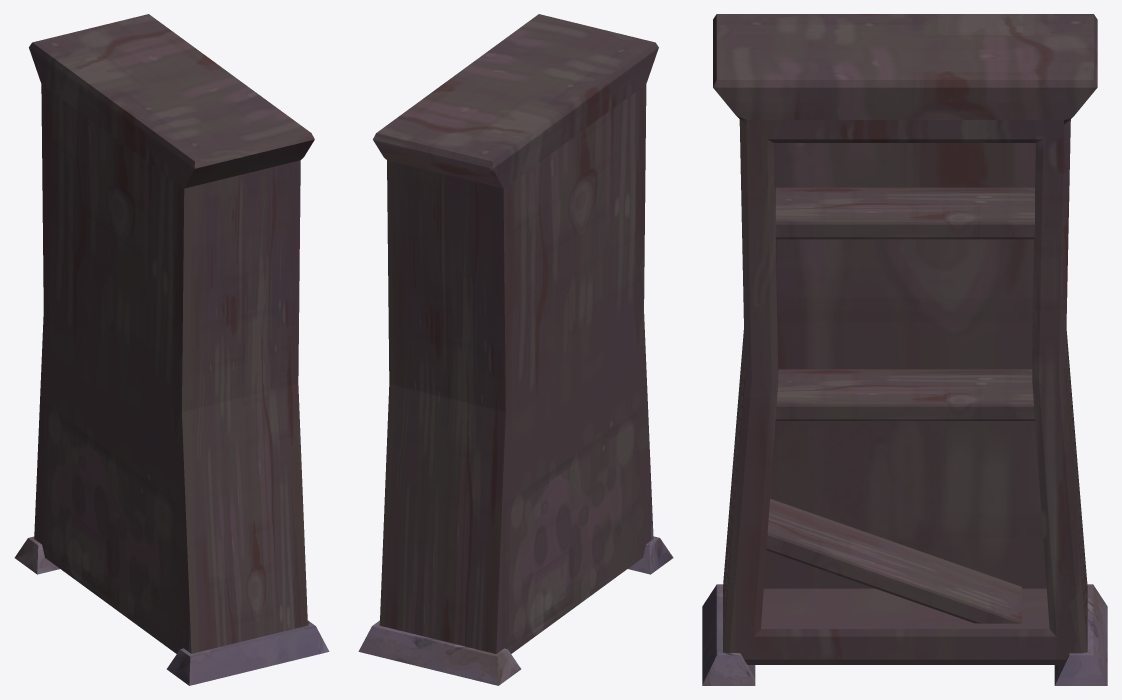
The model's file is Closet_02.fbx.
3 views of the same model, side by side, from view 1: azimuth 30°, elevation 25°; view 2: azimuth 150°, elevation 25°; view 3: azimuth 270°, elevation 25° (orthographic). The views are drawn at different scales.
Visible parts, largest first — view 1: Closet_02; view 2: Closet_02; view 3: Closet_02.
Boxes of the visible parts, bbox=[...] form: Closet_02: bbox=[14, 14, 329, 685]; Closet_02: bbox=[358, 14, 673, 685]; Closet_02: bbox=[702, 14, 1107, 685].
Size of the model in its own units: 73.15 by 258 by 158.
